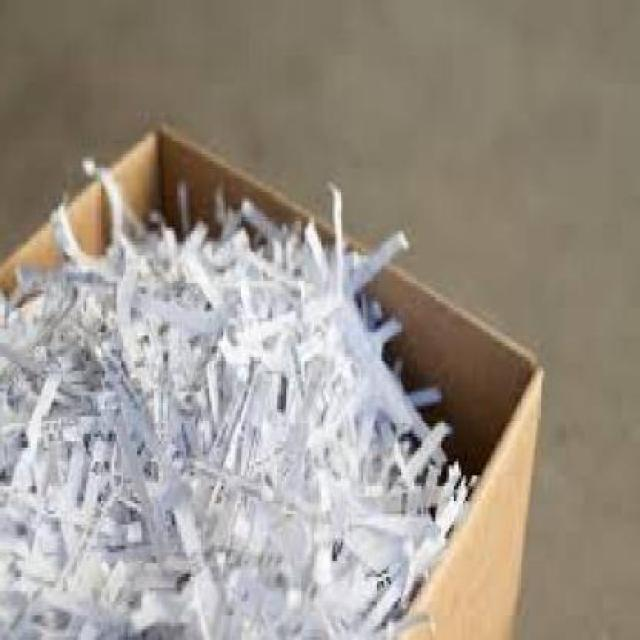CARDBOARD: (2, 119, 547, 636)
PAPER: (2, 150, 475, 636)
